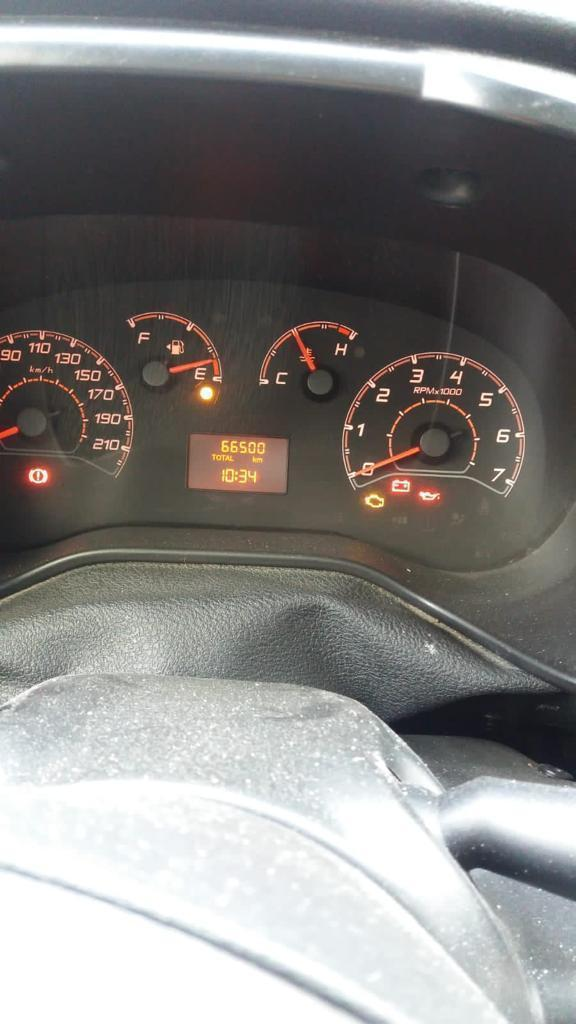0: (225, 468, 234, 482), (247, 440, 256, 453), (256, 442, 265, 454)
1: (221, 469, 224, 482)
3: (238, 468, 247, 483)
4: (247, 469, 256, 483)
5: (239, 441, 246, 453)
6: (220, 440, 229, 452), (230, 440, 237, 453)
X: (234, 470, 238, 481), (256, 457, 262, 463), (252, 455, 256, 464), (229, 454, 234, 461), (216, 454, 221, 460), (211, 454, 216, 460), (221, 454, 225, 460), (225, 455, 229, 461)
odometer: (182, 429, 292, 497)
